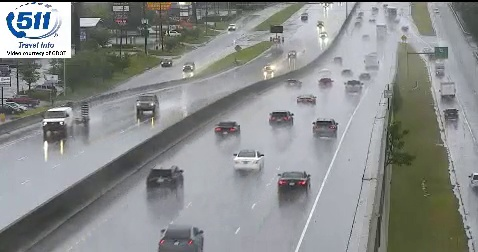car: (159, 225, 203, 252), (147, 165, 183, 190), (279, 172, 310, 193), (234, 150, 264, 171), (313, 119, 338, 138), (215, 122, 241, 138), (269, 111, 293, 128)
